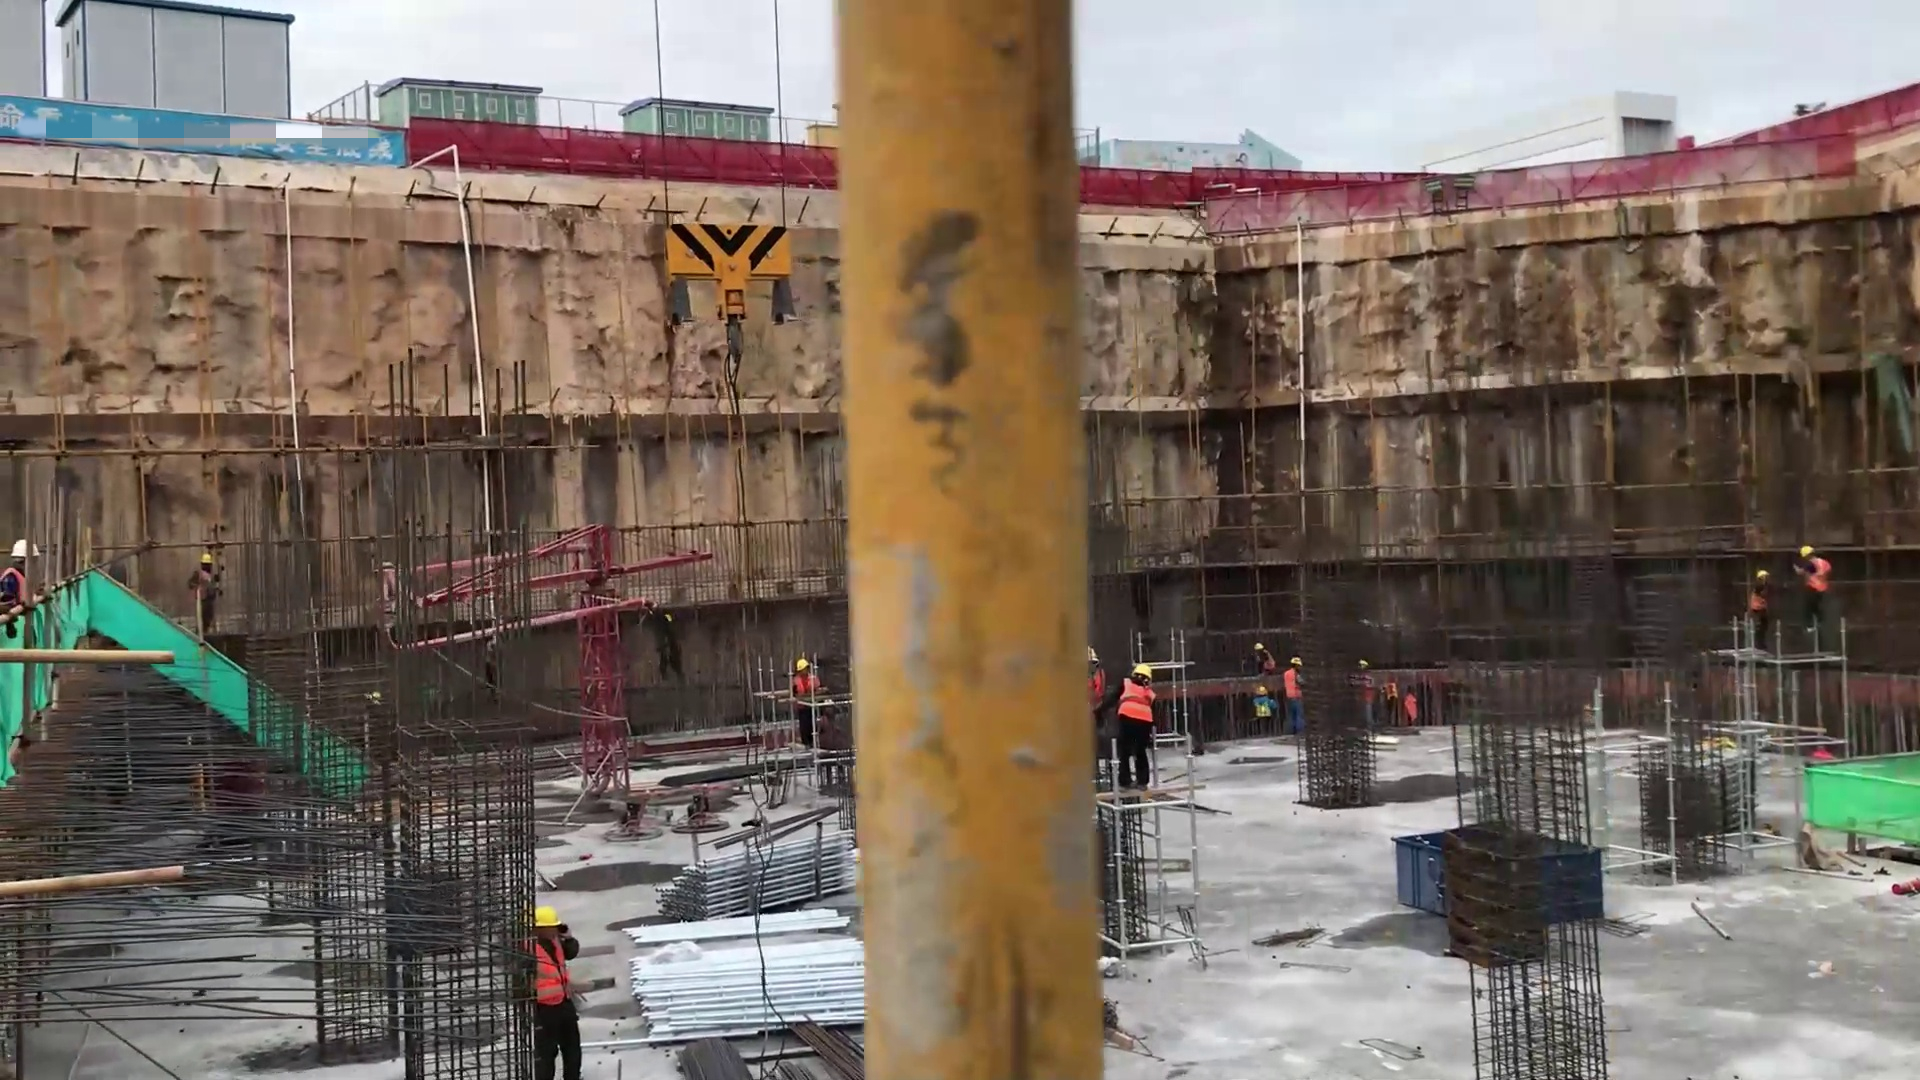helmet: (524, 888, 577, 927), (1125, 645, 1179, 674), (525, 893, 563, 933), (1748, 553, 1767, 585)
hook: (654, 196, 809, 327)
hopper: (1379, 796, 1612, 969)
person: (506, 885, 594, 1076), (1108, 650, 1152, 797), (1790, 538, 1839, 623), (1361, 670, 1433, 723), (793, 642, 820, 738), (1743, 561, 1777, 633), (1278, 645, 1306, 716), (1259, 635, 1290, 684)
vest: (527, 937, 571, 1003), (1367, 676, 1420, 715), (1116, 680, 1150, 720), (793, 670, 823, 693), (1804, 551, 1825, 580), (1286, 668, 1298, 691)
